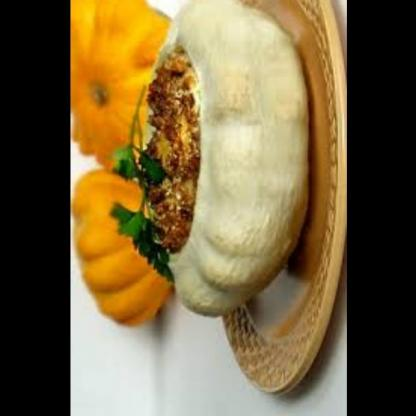squash-patisson: (156, 0, 301, 317), (68, 1, 170, 169), (69, 166, 153, 342)
